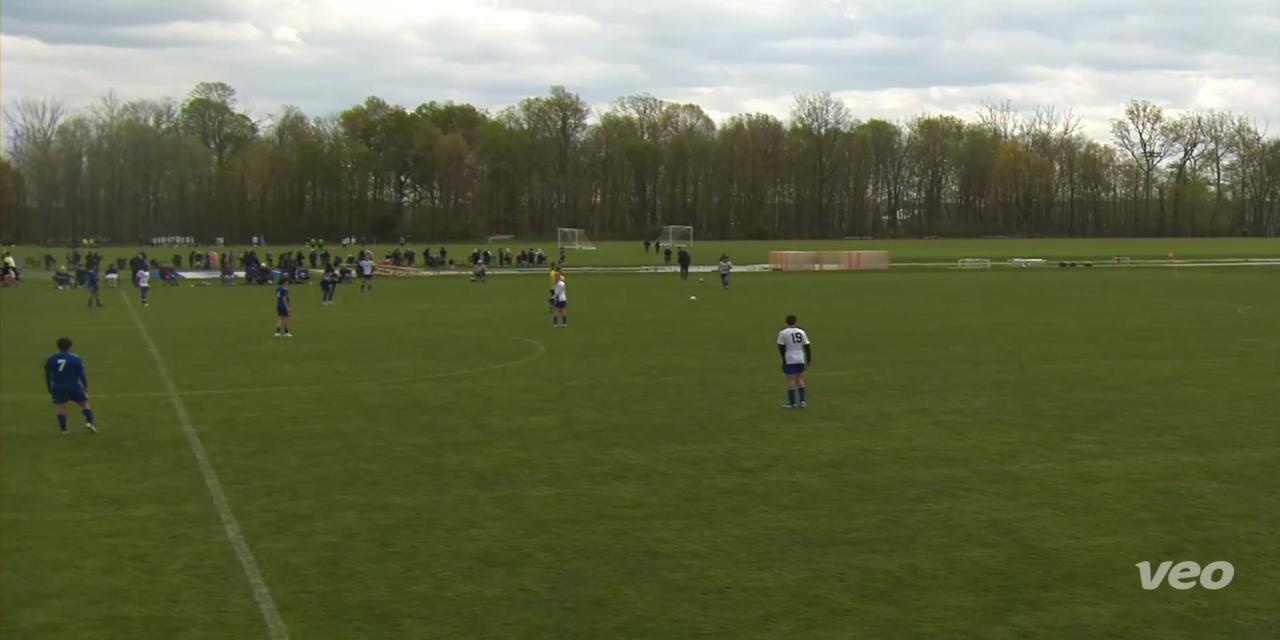sports ball: (690, 290, 700, 308), (695, 272, 708, 284)
